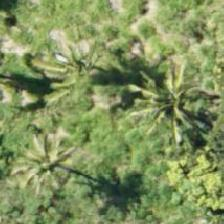coconut_tree: (25, 39, 115, 129), (123, 49, 213, 139), (0, 108, 84, 198)
